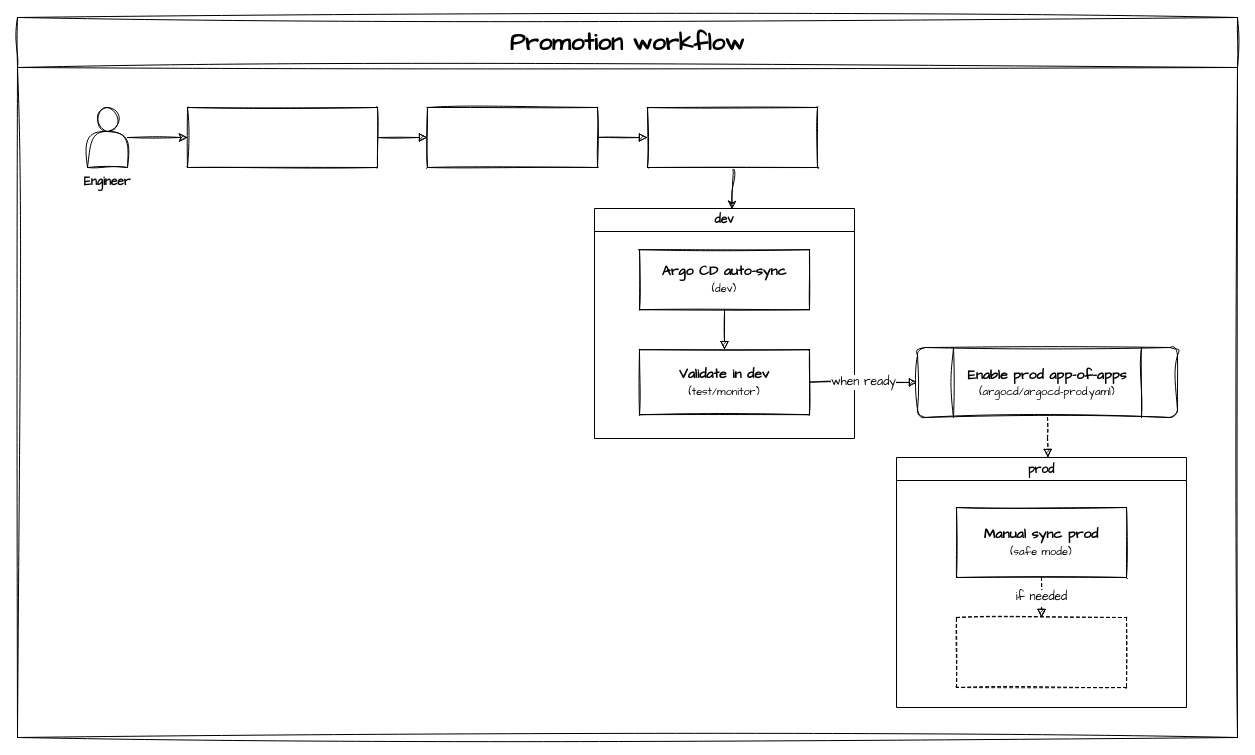
The diagram is 1255 pixels wide and 755 high, and some of its shapes have lost their labels. Here are the shapes that lost their labels. From the top down, the box of each, then its label:
(186, 106, 378, 168): Make change (catalog/ or live/dev/)
(426, 106, 598, 168): PR / review (optional)
(646, 106, 818, 168): Merge to main
(956, 616, 1126, 688): Rollback (revert commit + sync)
